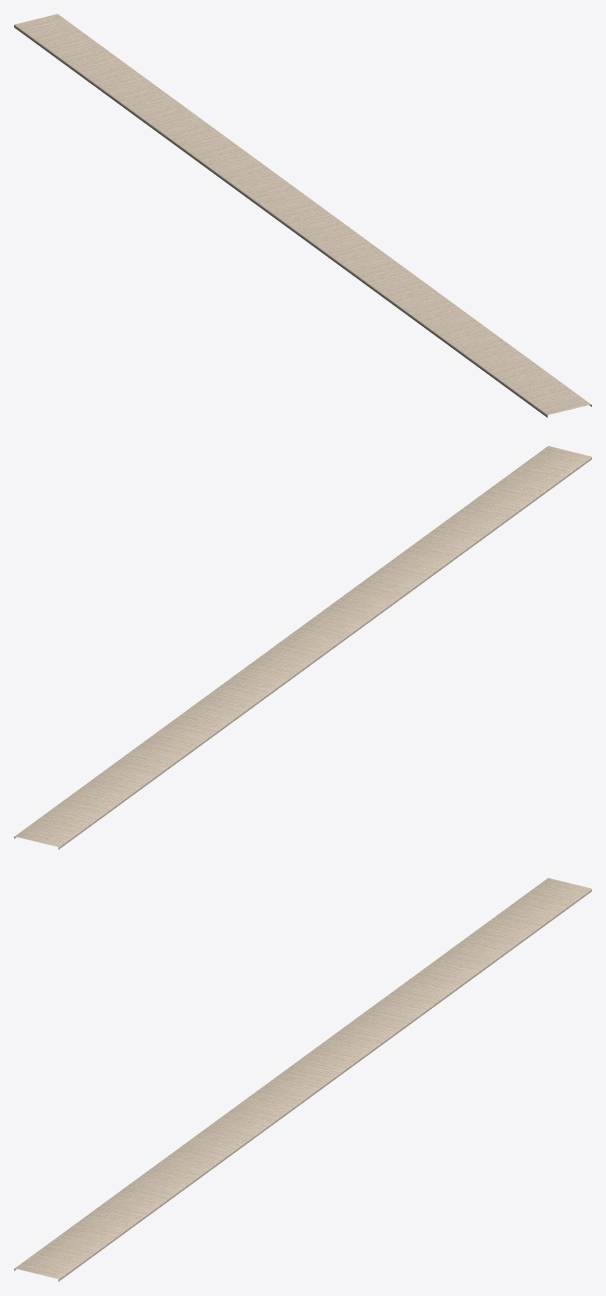
File: Path.fbx
3 renders of one model, top to bottom at view 1: azimuth 30°, elevation 25°; view 2: azimuth 150°, elevation 25°; view 3: azimuth 330°, elevation 25°, orthographic.
Visible parts, largest first — view 1: Cube; view 2: Cube; view 3: Cube.
Part boxes in pixels (x1,y1,x2,y2): Cube: [14, 14, 591, 417]; Cube: [14, 446, 591, 849]; Cube: [14, 878, 591, 1281].
Size of the model in its own units: 635 by 38.2 by 13200.
Materials: 1 (1 with a texture image).
